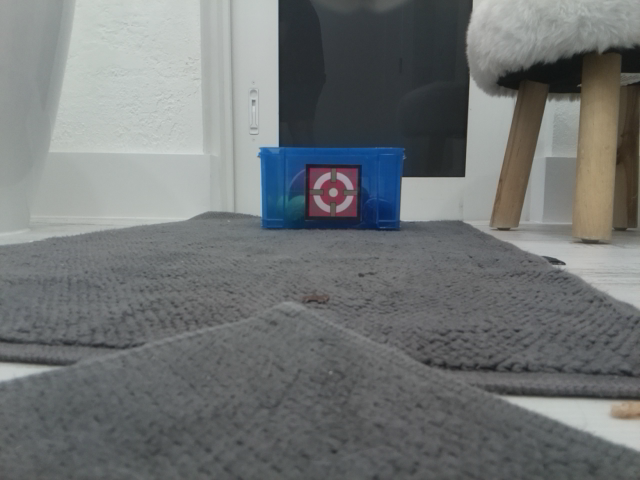drop-bin: (303, 163, 363, 222)
